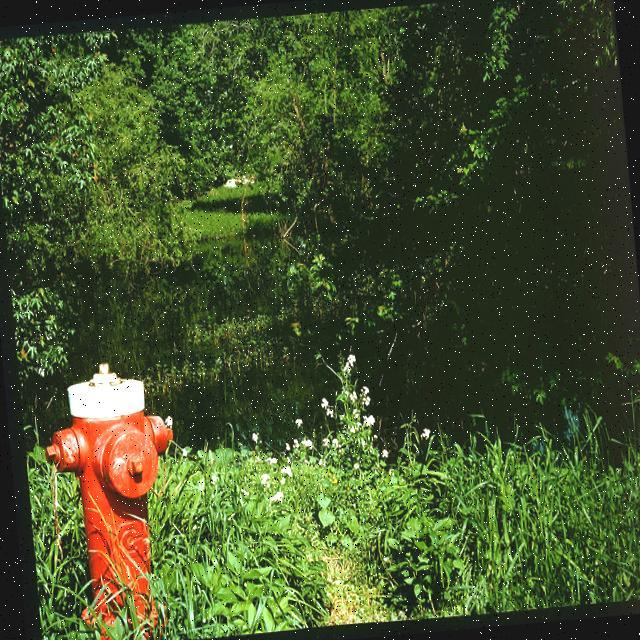fire_hydrant: (39, 356, 190, 640)
